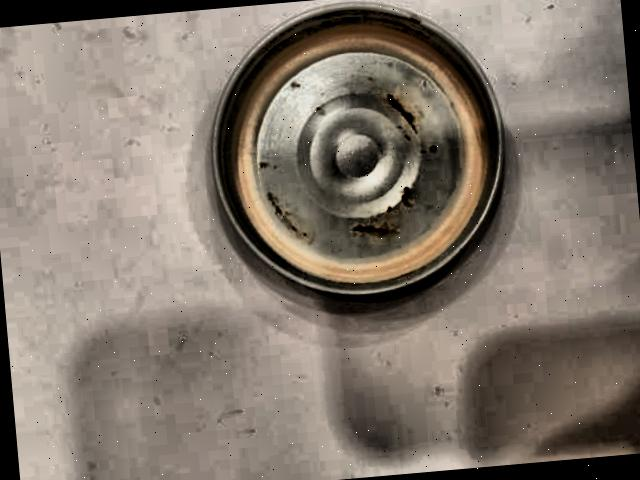Almennt: (176, 0, 536, 335)
